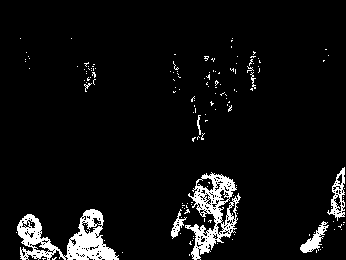person: (61, 207, 120, 260), (14, 212, 65, 260)
